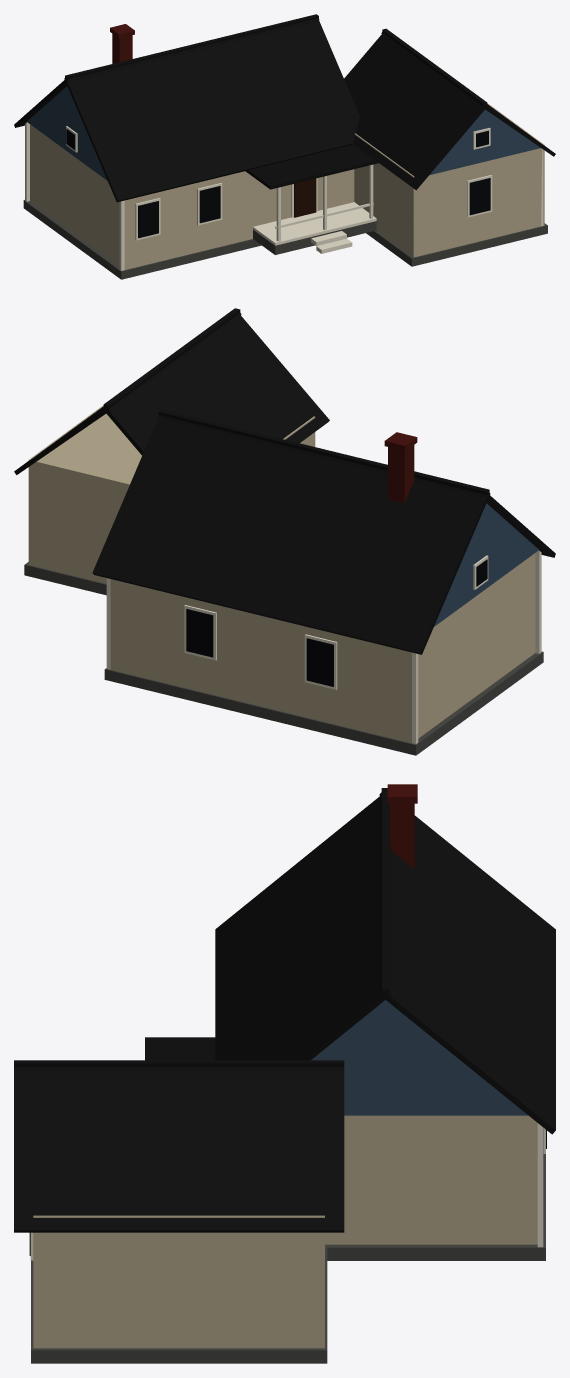
File: FrameHouse.obj
The picture shows the model from 3 angles, top to bottom: view 1: azimuth 30°, elevation 25°; view 2: azimuth 150°, elevation 25°; view 3: azimuth 270°, elevation 25°; orthographic projection. The views are drawn at different scales.
Visible parts, largest first — view 1: FrameHouse; view 2: FrameHouse; view 3: FrameHouse.
Part boxes in pixels (<box>): FrameHouse: <box>14,14,555,279</box>; FrameHouse: <box>14,308,555,755</box>; FrameHouse: <box>14,784,555,1363</box>.
Size of the model in its own units: 14.66 by 7.35 by 11.16.
